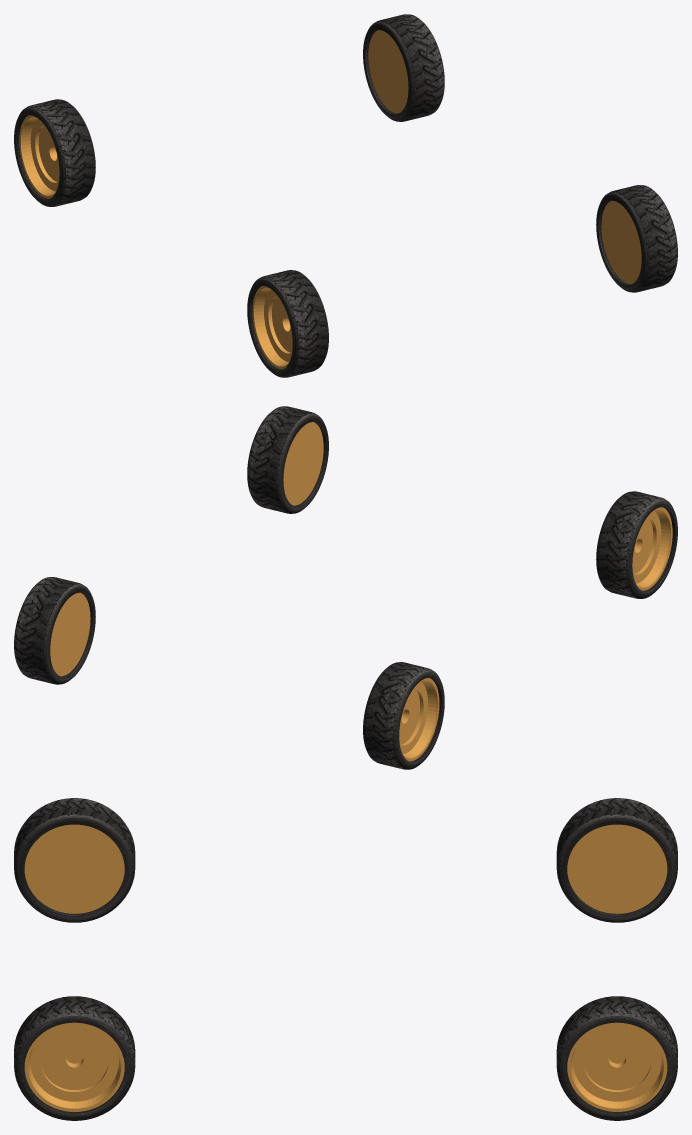
Rendered from Honda Mean Mower rueda.fbx.
3 views of the same model, one above another, from view 1: azimuth 30°, elevation 25°; view 2: azimuth 150°, elevation 25°; view 3: azimuth 270°, elevation 25° (orthographic). The views are drawn at different scales.
Visible parts, largest first — view 1: Honda Mean Mower rueda.001; view 2: Honda Mean Mower rueda.001; view 3: Honda Mean Mower rueda.001.
Part boxes in pixels (<box>): Honda Mean Mower rueda.001: <box>14,14,677,377</box>; Honda Mean Mower rueda.001: <box>14,406,677,769</box>; Honda Mean Mower rueda.001: <box>14,798,677,1120</box>.
Size of the model in its own units: 151 by 35.71 by 195.
2 materials, 1 textured.
